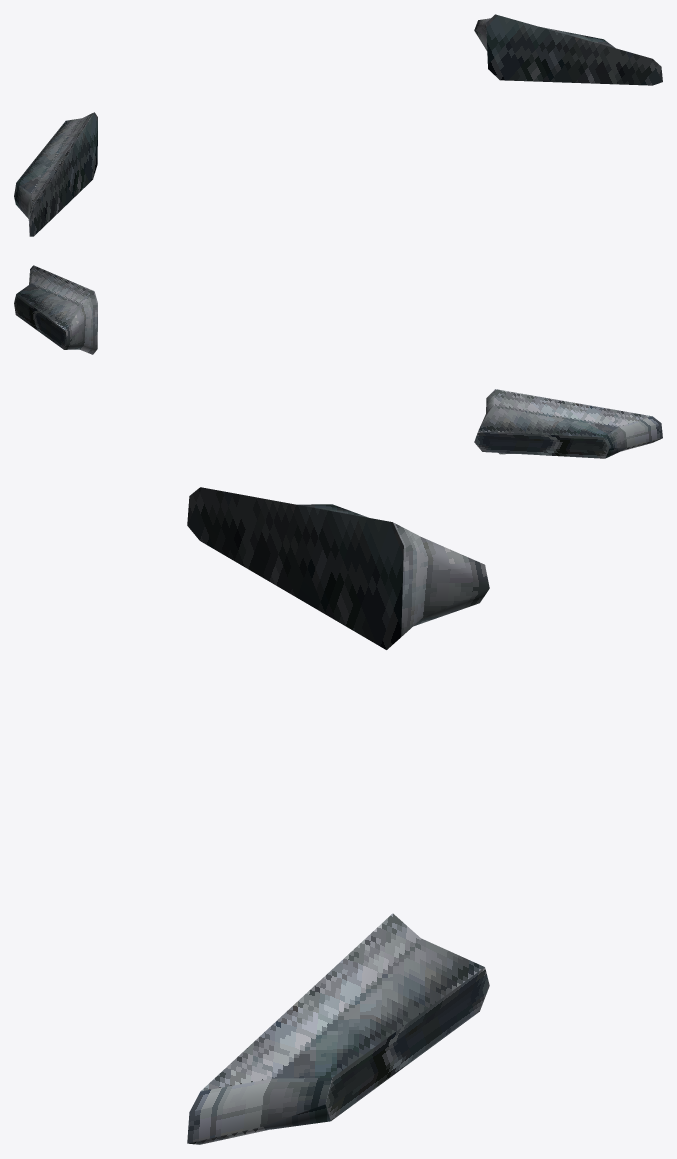
The model's file is vt49_booster_s02_l3.fbx.
3 renders of one model, top to bottom at view 1: azimuth 30°, elevation 25°; view 2: azimuth 150°, elevation 25°; view 3: azimuth 270°, elevation 25°, orthographic. The views are drawn at different scales.
Visible parts, largest first — view 1: mesh_node; view 2: mesh_node; view 3: mesh_node.
Part boxes in pixels (x1,y1,x2,y2): mesh_node: (14, 14, 662, 236); mesh_node: (14, 265, 662, 458); mesh_node: (187, 487, 489, 1144).
Bounding box in the file's own units: 33.56 × 3.32 × 6.94.
Materials: 1 (1 with a texture image).
